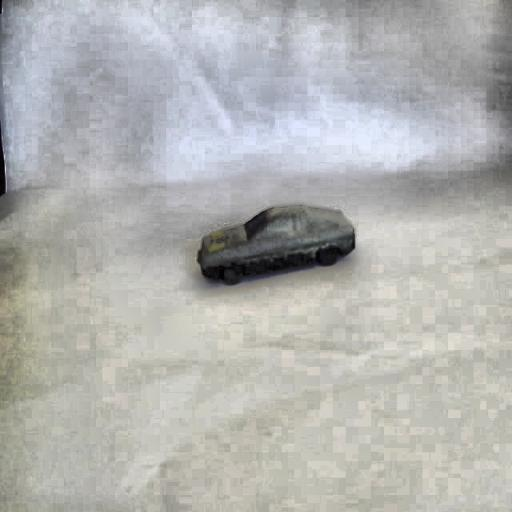normal_car: (196, 200, 357, 286)
